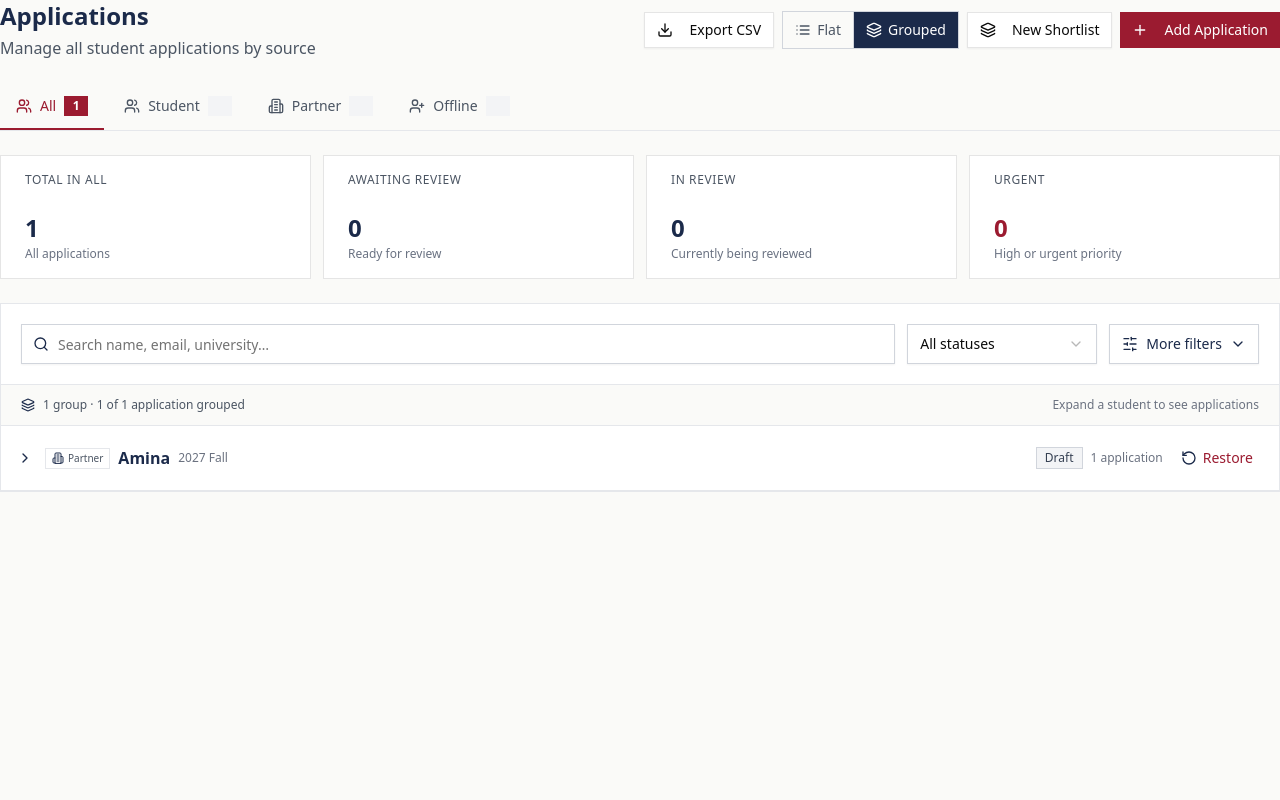
Test case: admin application delete › restores an archived application through its own surface endpoint
This screenshot has width=1280, height=800.
Click the button with aria-label "Restore application for Amina" at (1217, 458), box [1171, 442, 1263, 474]
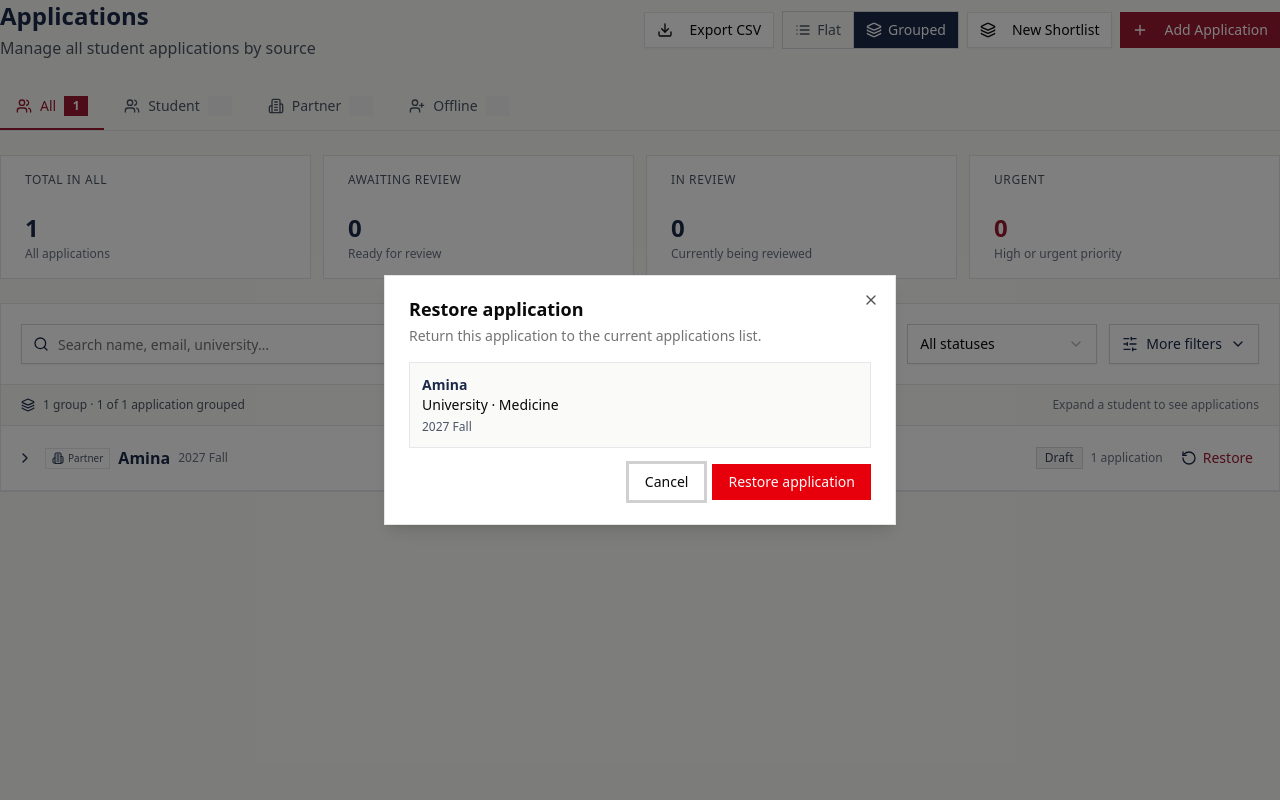
Click the button "Restore application" at (792, 482), box [712, 464, 871, 500]
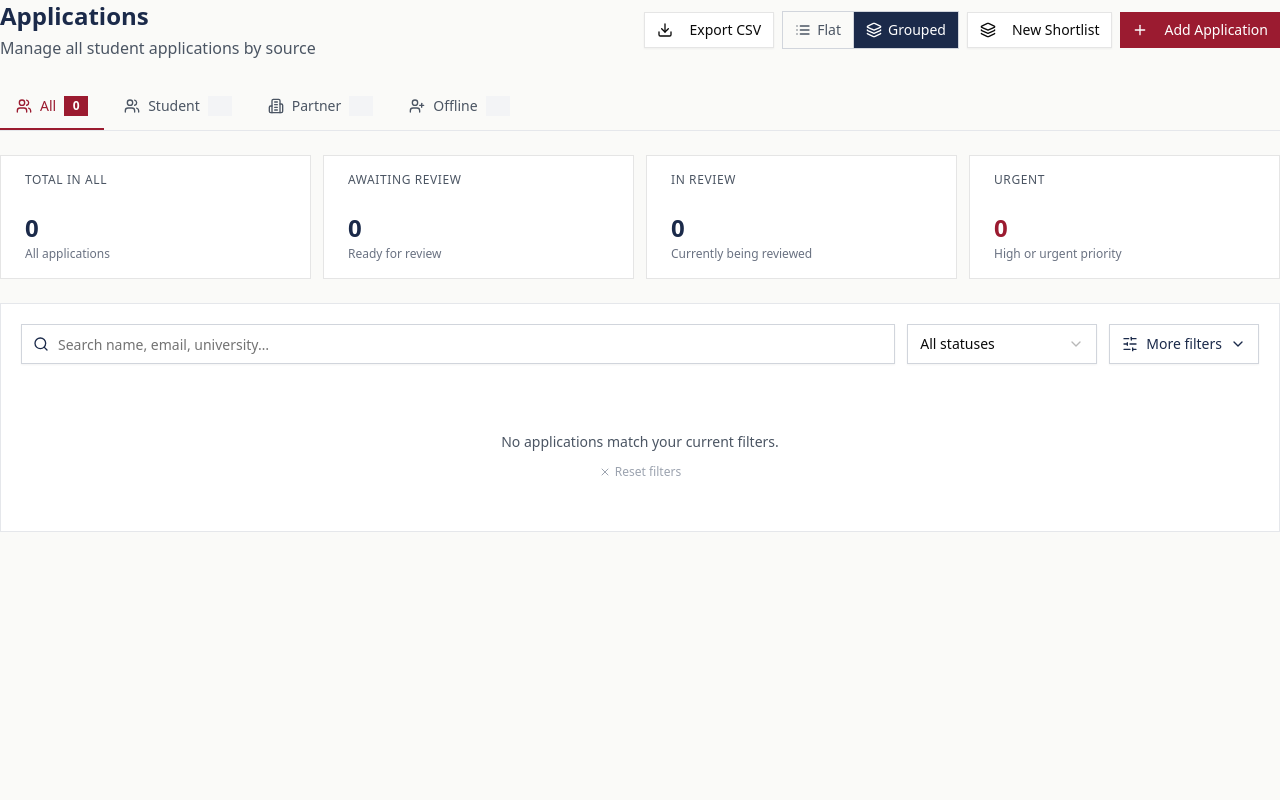
expect the dialog is gone: met
